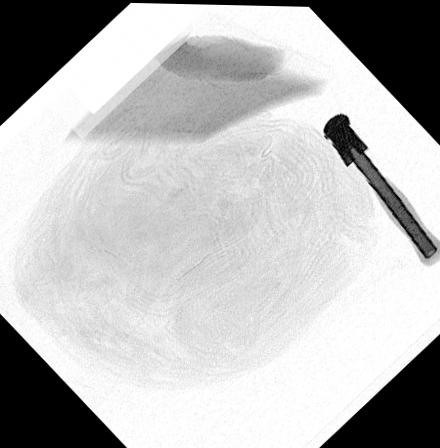Hammer: (322, 109, 440, 263)
